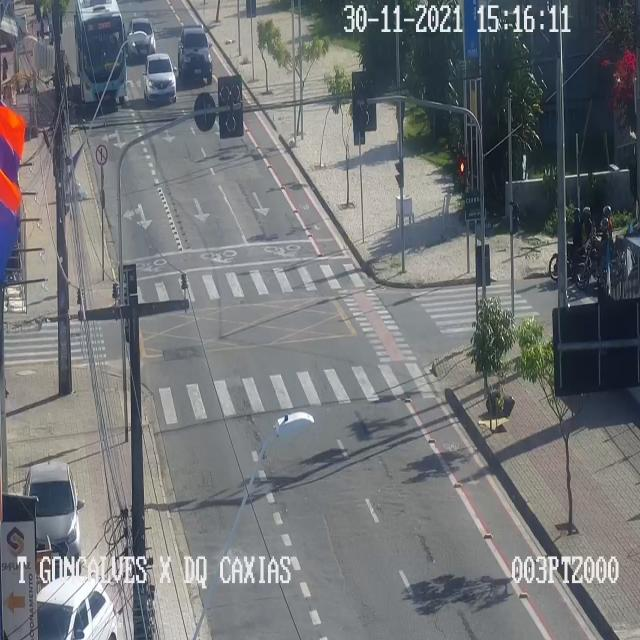Bus: (76, 2, 130, 116)
Car: (24, 463, 80, 573), (36, 575, 116, 639), (178, 27, 212, 82), (143, 52, 175, 100), (127, 18, 155, 58)
Motorcycle: (576, 205, 624, 283), (575, 217, 619, 290), (548, 207, 590, 281)
